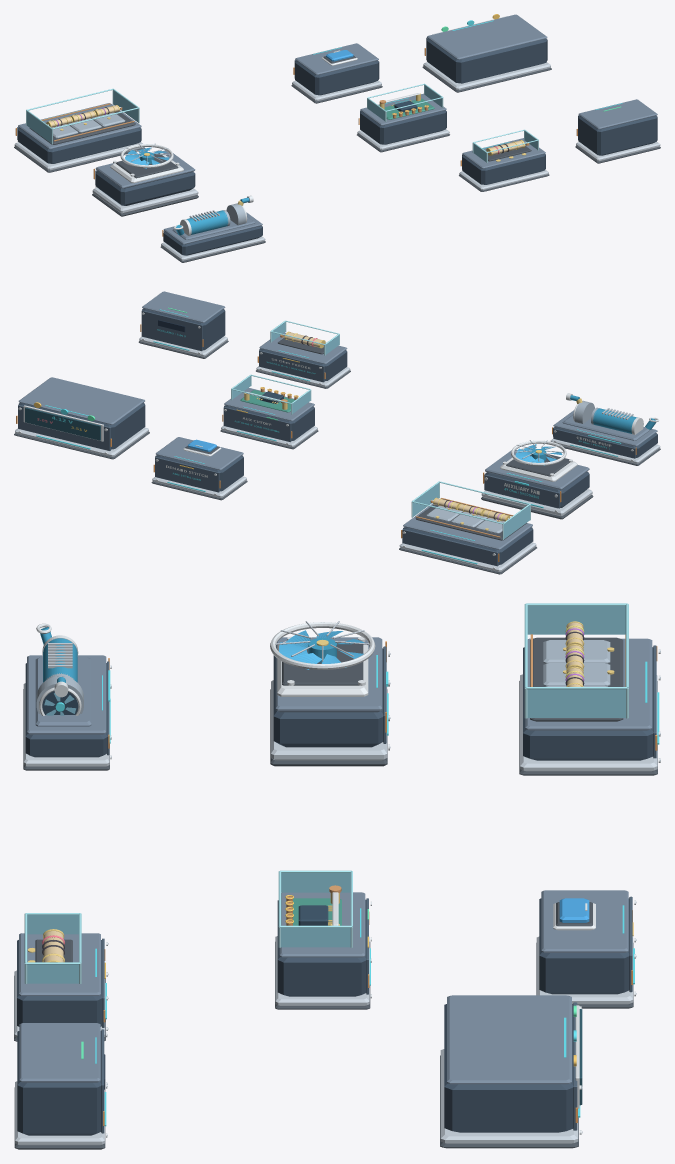
The model's file is Level34_Fitted_Assembly.fbx.
3 views of the same model, one above another, from view 1: azimuth 30°, elevation 25°; view 2: azimuth 150°, elevation 25°; view 3: azimuth 270°, elevation 25° (orthographic). The views are drawn at different scales.
Parts seen in each view (by area): view 1: L34_Monitor_Static__graphite, L34_Monitor_Static__mid_steel, L34_Supply_Static__graphite, L34_Bank_Static__graphite, L34_Fan_Static__graphite, L34_Demand_Static__graphite, L34_Aux_Static__graphite, L34_Feeder_Static__graphite, L34_Supply_Static__mid_steel, L34_Pump_Static__graphite, L34_Demand_Static__mid_steel, L34_Fan_Static__titanium (+23 smaller); view 2: L34_Monitor_Static__mid_steel, L34_Supply_Static__deep_steel, L34_Supply_Static__mid_steel, L34_Bank_Static__deep_steel, L34_Aux_Static__deep_steel, L34_Demand_Static__deep_steel, L34_Demand_Static__mid_steel, L34_Bank_Static__mid_steel, L34_Pump_Static__mid_steel, L34_Fan_Static__deep_steel, L34_Monitor_Static__screen, L34_Feeder_Static__deep_steel (+31 smaller); view 3: L34_Monitor_Static__mid_steel, L34_Monitor_Static__graphite, L34_Bank_Static__acrylic, L34_Supply_Static__mid_steel, L34_Supply_Static__graphite, L34_Bank_Static__graphite, L34_Demand_Static__mid_steel, L34_Fan_Static__graphite, L34_Demand_Static__graphite, L34_Pump_Static__mid_steel, L34_Aux_Static__graphite, L34_Bank_Static__mid_steel (+24 smaller).
Part boxes in pixels (bbox=[...]): L34_Monitor_Static__graphite: bbox=[427, 38, 547, 83]; L34_Monitor_Static__mid_steel: bbox=[427, 14, 547, 59]; L34_Supply_Static__graphite: bbox=[578, 115, 657, 155]; L34_Bank_Static__graphite: bbox=[18, 127, 141, 163]; L34_Fan_Static__graphite: bbox=[95, 171, 195, 205]; L34_Demand_Static__graphite: bbox=[295, 60, 379, 95]; L34_Aux_Static__graphite: bbox=[360, 110, 446, 144]; L34_Feeder_Static__graphite: bbox=[462, 154, 545, 184]; L34_Supply_Static__mid_steel: bbox=[578, 99, 657, 129]; L34_Pump_Static__graphite: bbox=[163, 226, 262, 255]; L34_Demand_Static__mid_steel: bbox=[295, 43, 378, 74]; L34_Fan_Static__titanium: bbox=[92, 143, 198, 213]; L34_Monitor_Static__mid_steel: bbox=[18, 377, 144, 453]; L34_Supply_Static__deep_steel: bbox=[141, 310, 202, 351]; L34_Supply_Static__mid_steel: bbox=[142, 291, 225, 353]; L34_Bank_Static__deep_steel: bbox=[402, 529, 498, 566]; L34_Aux_Static__deep_steel: bbox=[223, 407, 291, 442]; L34_Demand_Static__deep_steel: bbox=[155, 457, 219, 492]; L34_Demand_Static__mid_steel: bbox=[155, 437, 243, 480]; L34_Bank_Static__mid_steel: bbox=[403, 503, 532, 569]; L34_Pump_Static__mid_steel: bbox=[553, 410, 657, 450]; L34_Fan_Static__deep_steel: bbox=[484, 474, 560, 508]; L34_Monitor_Static__screen: bbox=[25, 407, 100, 440]; L34_Feeder_Static__deep_steel: bbox=[259, 350, 324, 382]; L34_Monitor_Static__mid_steel: bbox=[447, 995, 582, 1132]; L34_Monitor_Static__graphite: bbox=[444, 1004, 573, 1132]; L34_Bank_Static__acrylic: bbox=[527, 606, 625, 717]; L34_Supply_Static__mid_steel: bbox=[19, 1023, 107, 1135]; L34_Supply_Static__graphite: bbox=[17, 1031, 101, 1135]; L34_Bank_Static__graphite: bbox=[523, 647, 653, 760]; L34_Demand_Static__mid_steel: bbox=[541, 890, 636, 994]; L34_Fan_Static__graphite: bbox=[273, 648, 383, 747]; L34_Demand_Static__graphite: bbox=[539, 898, 629, 994]; L34_Pump_Static__mid_steel: bbox=[27, 655, 111, 757]; L34_Aux_Static__graphite: bbox=[277, 899, 366, 996]; L34_Bank_Static__mid_steel: bbox=[525, 638, 660, 760].
Size of the model in its own units: 170 by 15.2 by 99.55.
